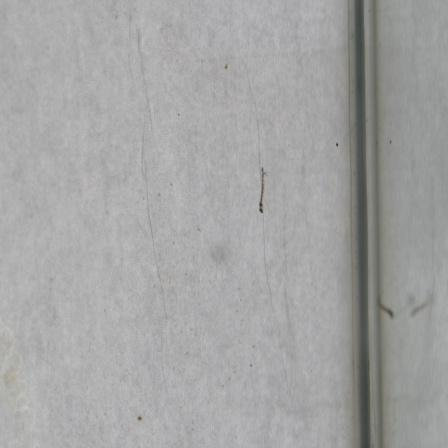Jentik-Nyamuk: (253, 163, 272, 219)
